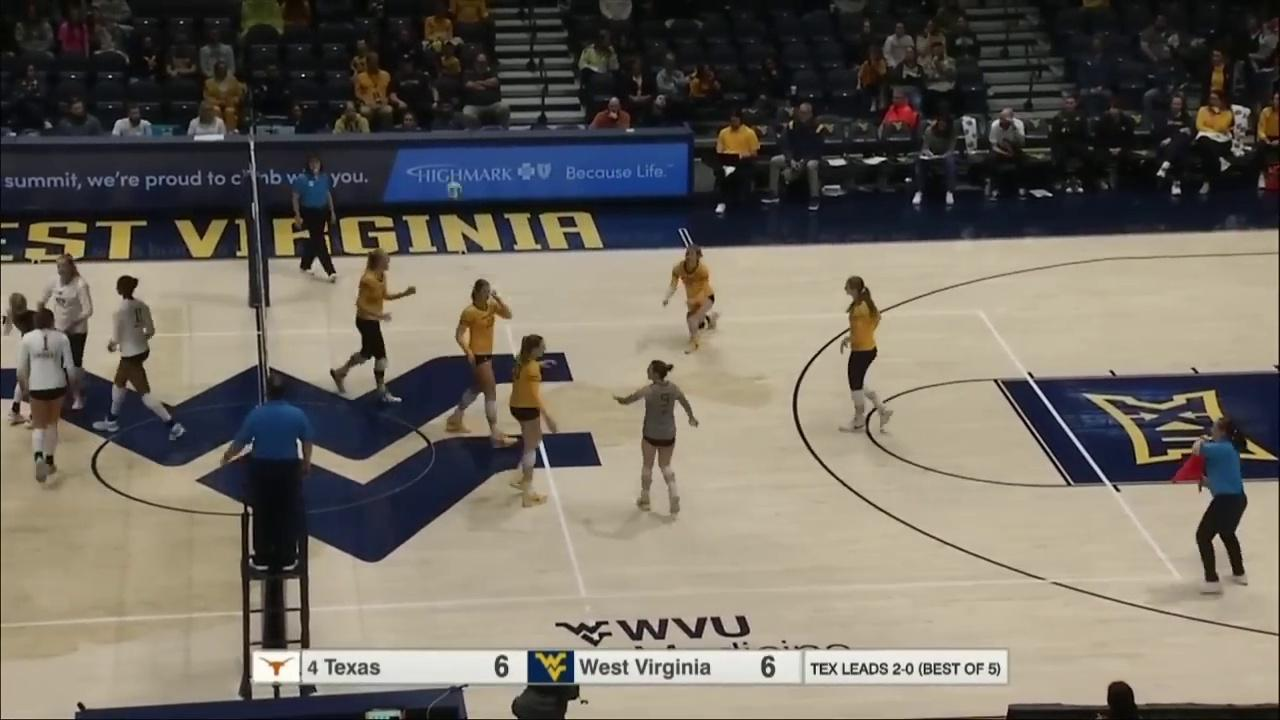player: (95, 270, 186, 439), (615, 358, 704, 519), (809, 275, 898, 436), (445, 277, 518, 450), (331, 251, 414, 397), (507, 334, 562, 509), (24, 310, 74, 494), (42, 256, 93, 407), (7, 292, 60, 427), (665, 245, 724, 353)
refree: (232, 370, 315, 570), (1180, 416, 1254, 595), (295, 155, 344, 283)
